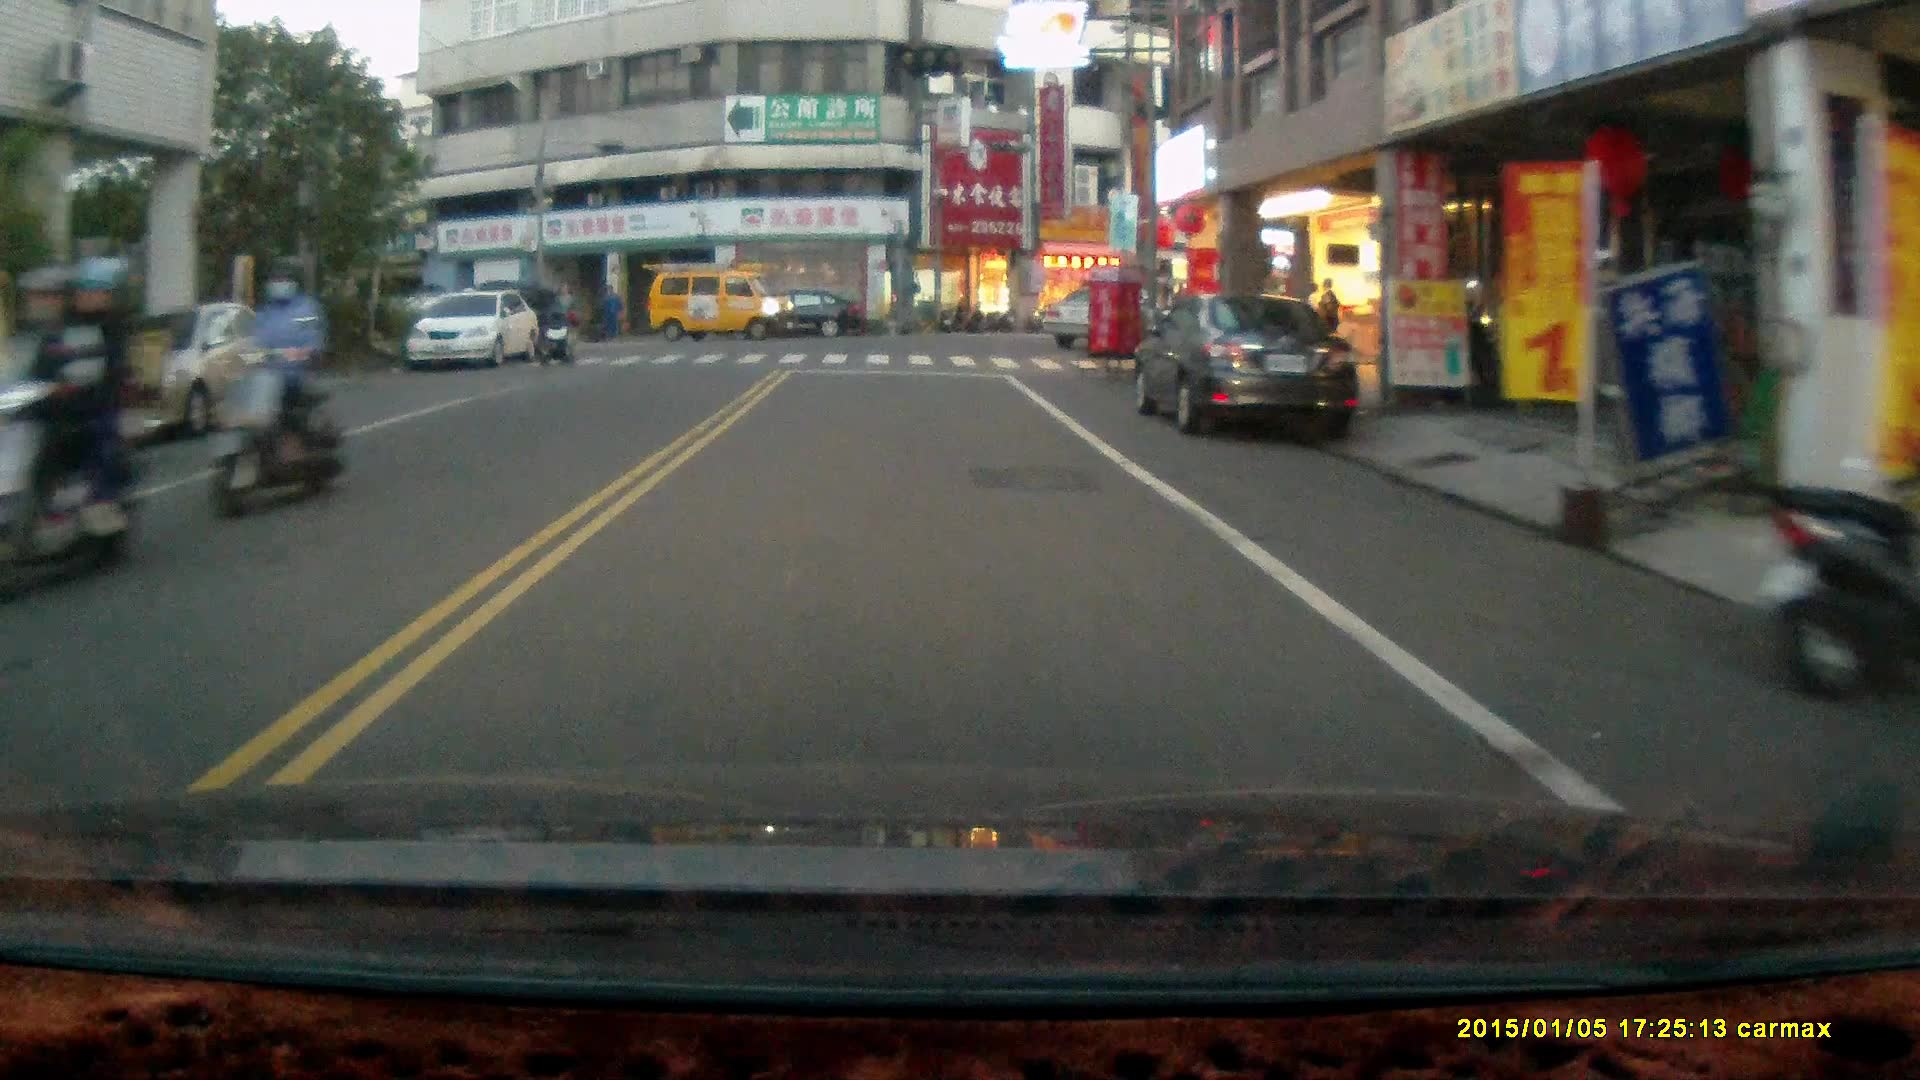pedestrian: (1318, 276, 1344, 365), (551, 278, 577, 346)
rider: (0, 255, 144, 605), (206, 251, 346, 523), (534, 303, 580, 366)
vehicle: (1, 270, 209, 493), (1132, 293, 1371, 452), (92, 297, 297, 433), (648, 257, 795, 343), (410, 288, 540, 371), (740, 286, 868, 336)
